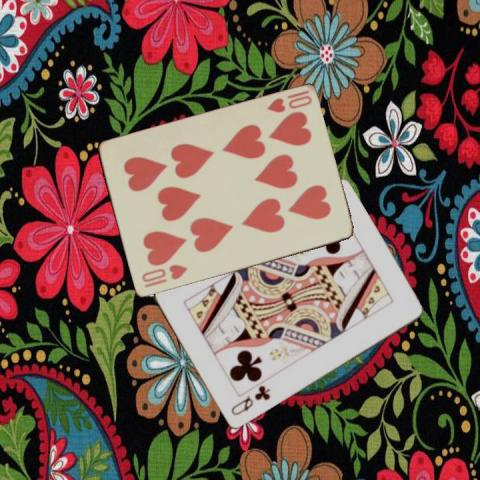10h: (138, 262, 189, 290), (264, 87, 313, 115)
Qc: (227, 383, 272, 418)
